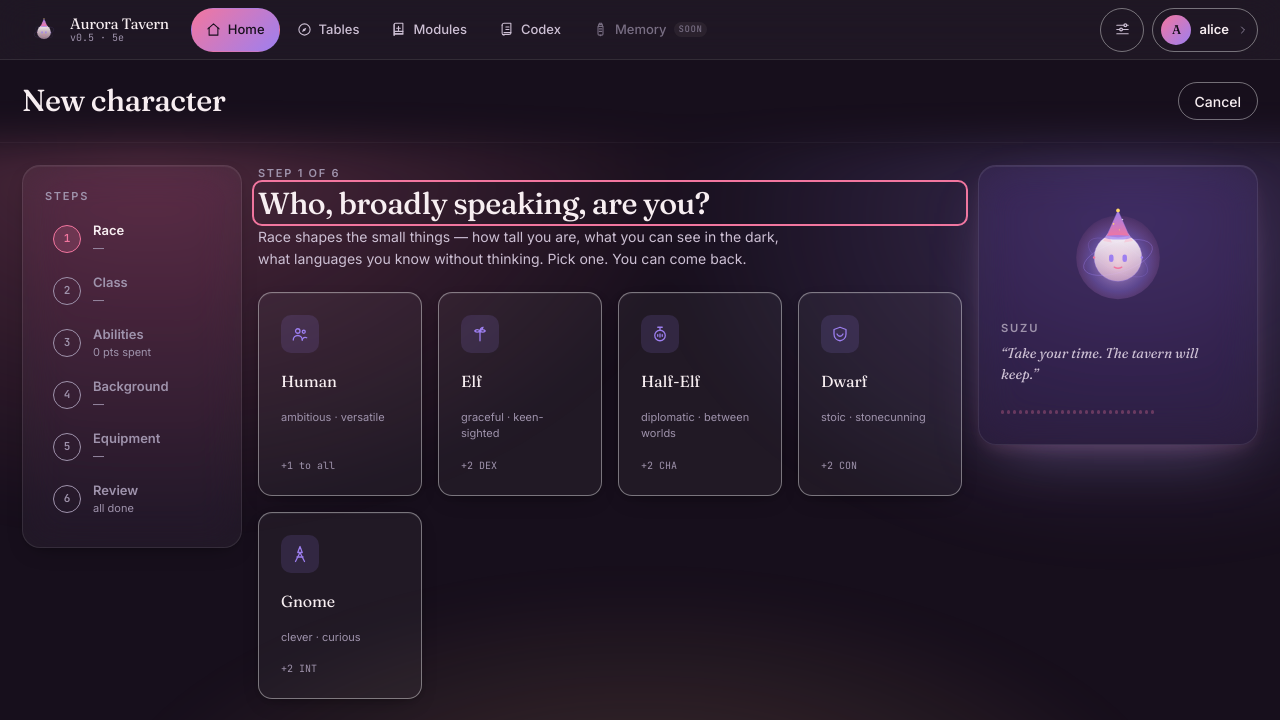
Scenario: Character creation wizard › TAV-CLASS-STAT-GUIDANCE › shows the point-buy hint naming the spellcasting ability for a caster
Click the radio button labelled "Human ambitious · versatile +1 to all" at (340, 394), box [258,292,422,496]
(page scrolled)
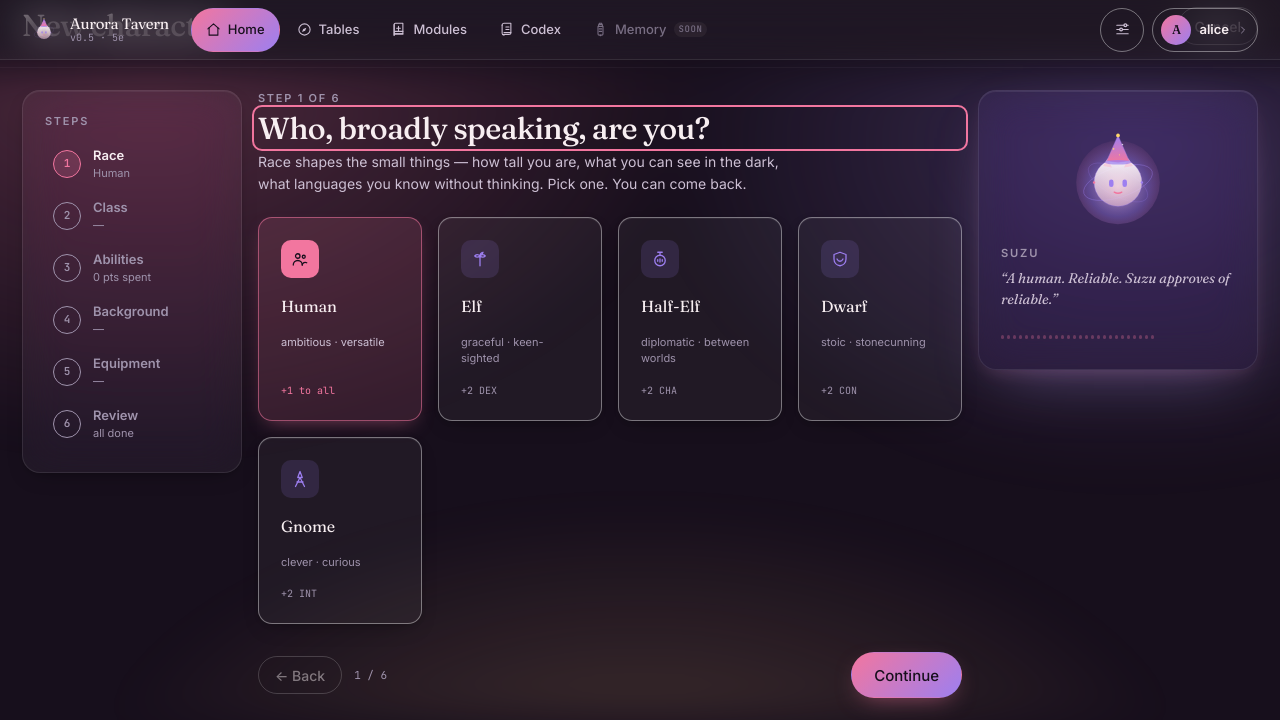
Click the button "Continue" at (907, 675), box [851,652,962,698]
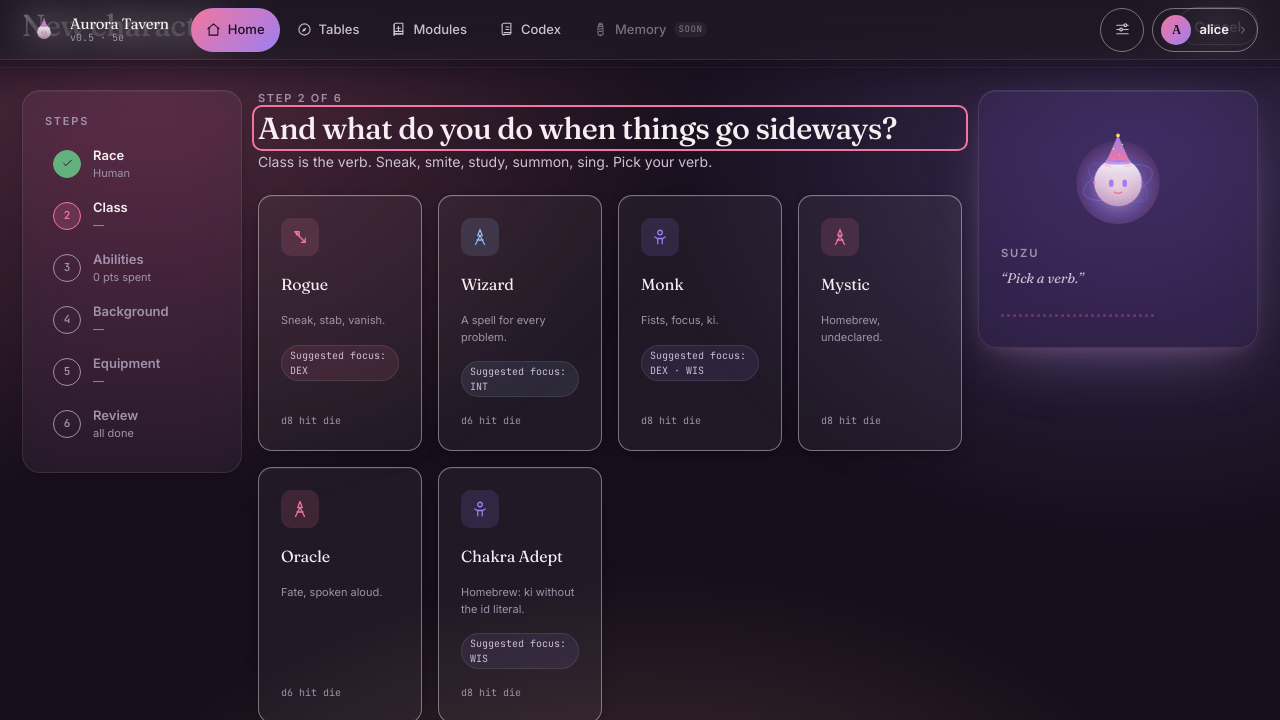
Click the radio button labelled "Wizard" at (520, 323), box [438,195,602,451]
(page scrolled)
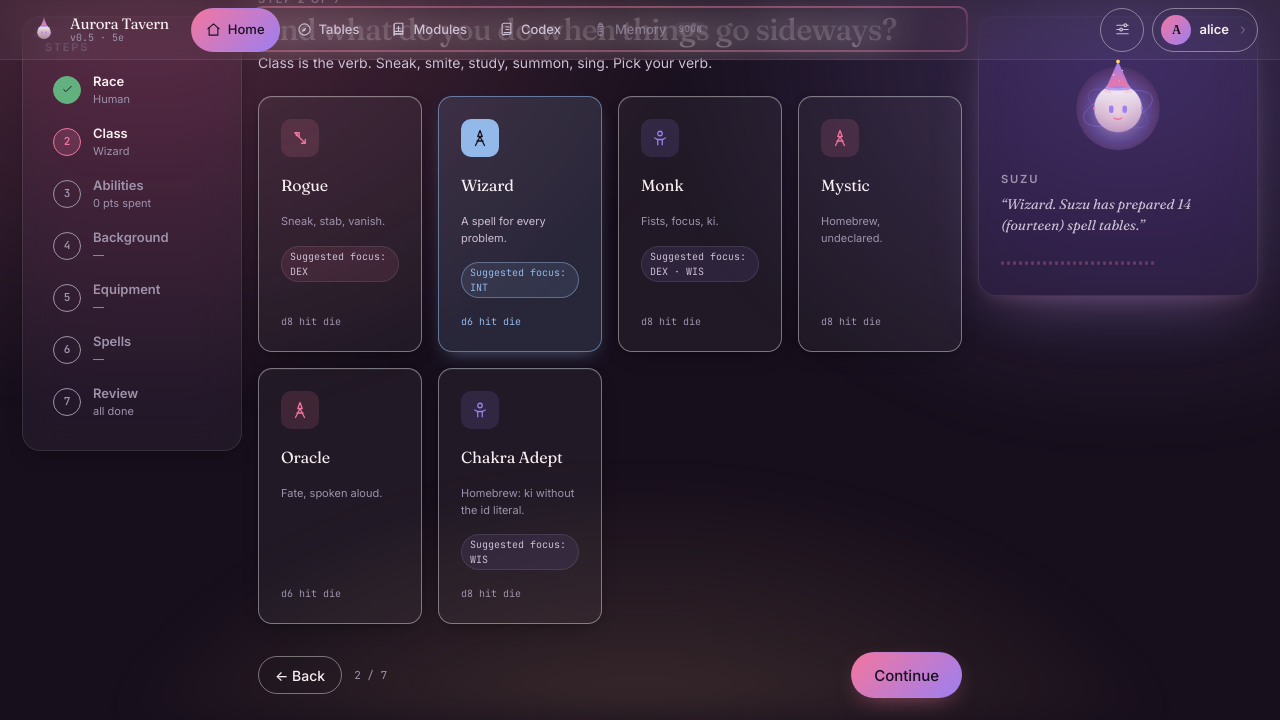
Click the button "Continue" at (907, 675), box [851,652,962,698]
(page scrolled)
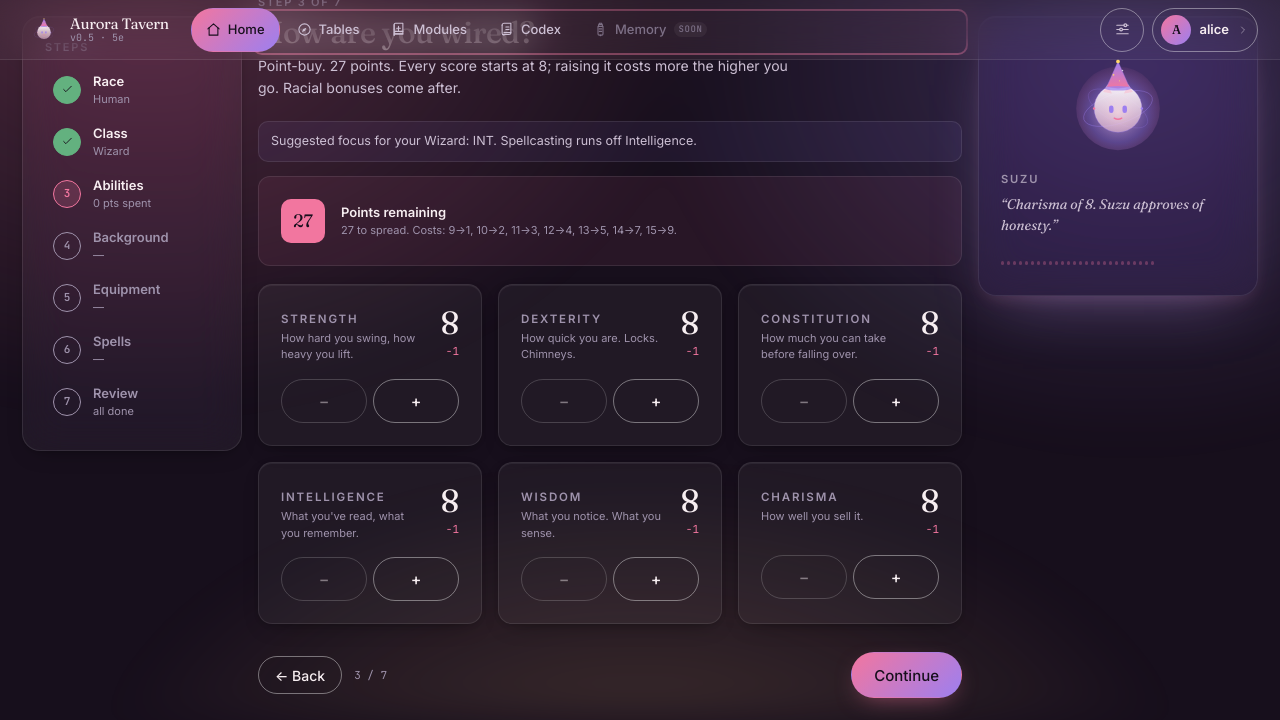
Now the text "Suggested focus for your Wizard: INT. Spellcasting runs off Intelligence." is shown, box [258,121,962,162]
